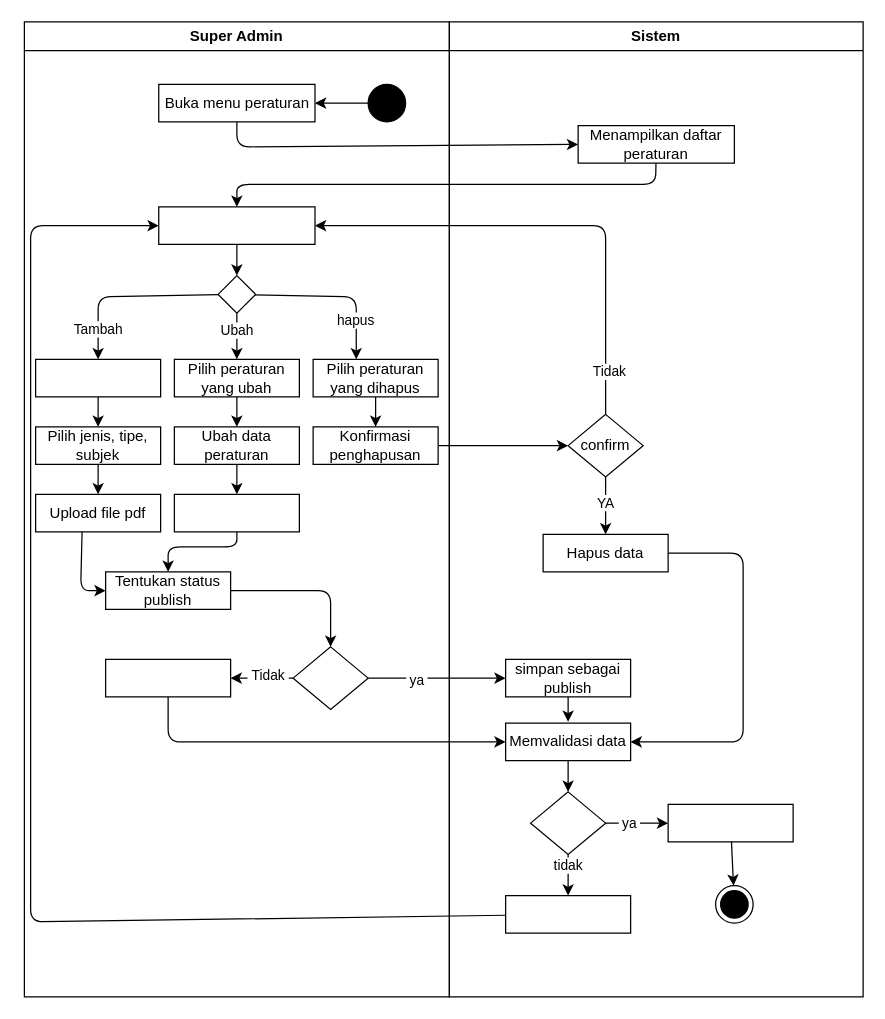
Some shapes in this 885 by 1019 pixel diagram are drawn without their labels. The centre of each missing label's shape, as x and y in pixels:
Isi seluruh data peraturan baru: [97,377]
klik simpan: [167,677]
pilih aksi: [236,225]
publish?: [330,677]
Simpan data peraturan: [730,822]
Tampilkan notif eror: [567,913]
Ubah file pdf jika perlu: [236,512]
valid?: [567,822]
